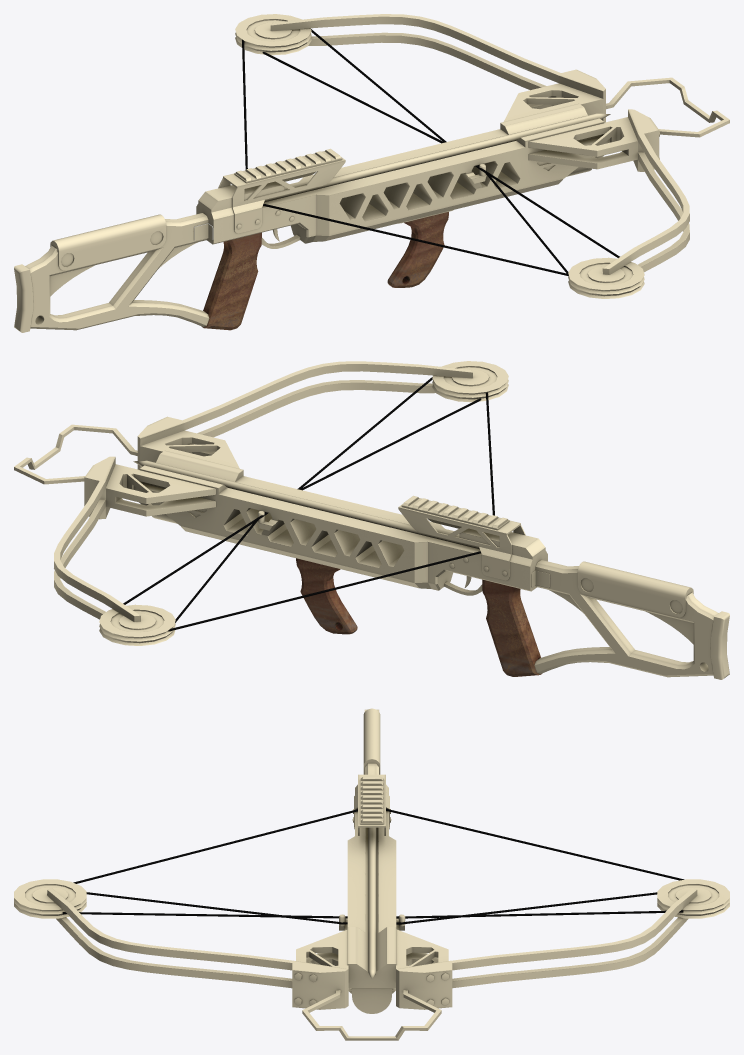
Rendered from weapon_14_4.gltf.
3 views of the same model, one above another, from view 1: azimuth 30°, elevation 25°; view 2: azimuth 150°, elevation 25°; view 3: azimuth 270°, elevation 25° (orthographic). The views are drawn at different scales.
Visible parts, largest first — view 1: Cylinder_Cylinder.000_Cylinder_Cylinder.003; view 2: Cylinder_Cylinder.000_Cylinder_Cylinder.003; view 3: Cylinder_Cylinder.000_Cylinder_Cylinder.003.
Boxes of the visible parts, x1,y1,x2,y2 form: Cylinder_Cylinder.000_Cylinder_Cylinder.003: (14,14,729,332); Cylinder_Cylinder.000_Cylinder_Cylinder.003: (14,361,729,679); Cylinder_Cylinder.000_Cylinder_Cylinder.003: (14,708,729,1040).
Bounding box in the file's own units: 9401 × 1985 × 8821.
Materials: 1 (1 with a texture image).
